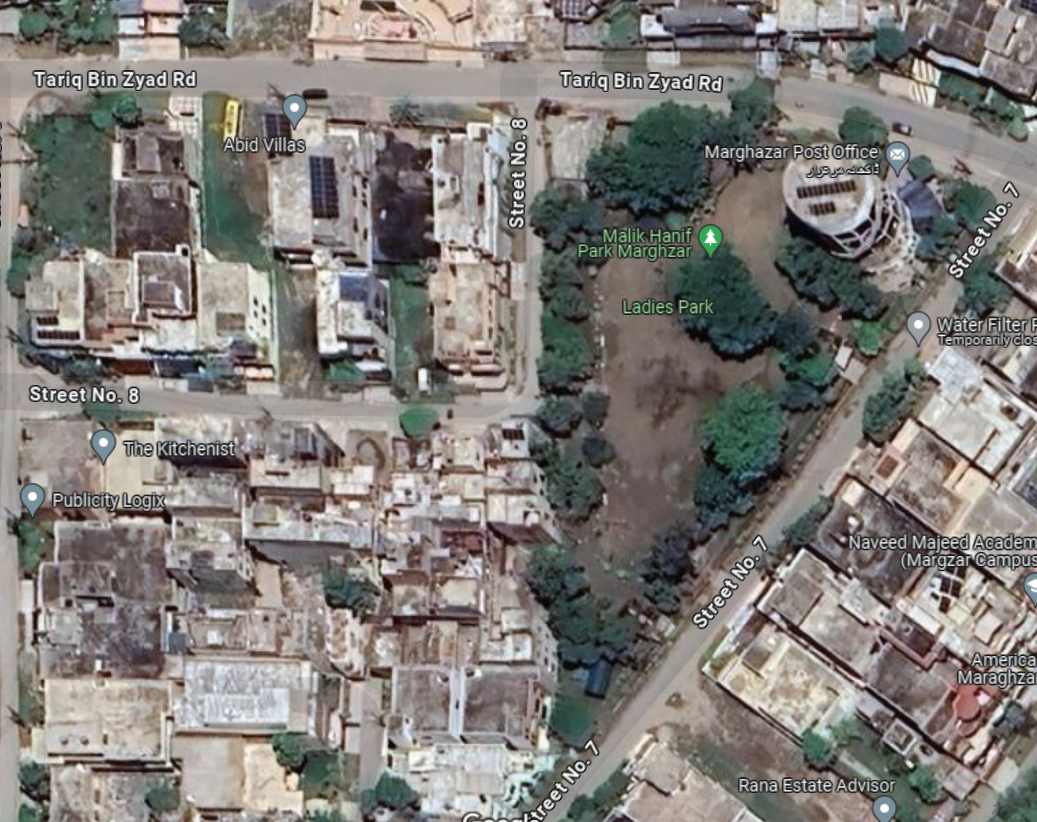solar-panel: (309, 156, 340, 217), (938, 573, 958, 611), (266, 114, 292, 140), (33, 330, 85, 342), (801, 182, 859, 191), (501, 426, 524, 440), (811, 201, 834, 211), (36, 319, 59, 325)
